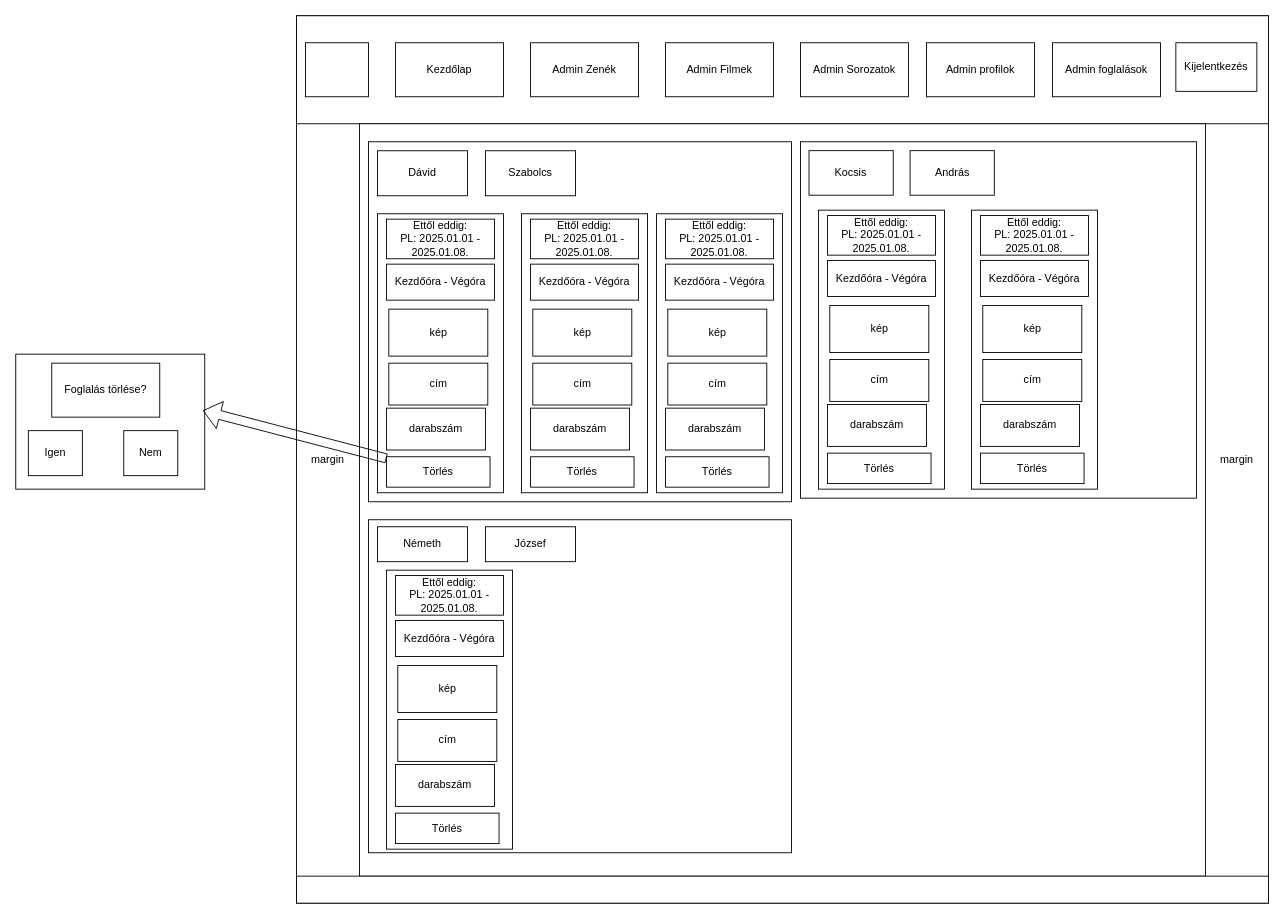
Some shapes in this 1284 by 919 pixel diagram are drawn without their labels. The shapes that lost their labels are listed below. From the top down, each one's centre as x and y in pixels, then its label:
the point at 337,69: Logo (opcionális)
the point at 782,889: Footer
